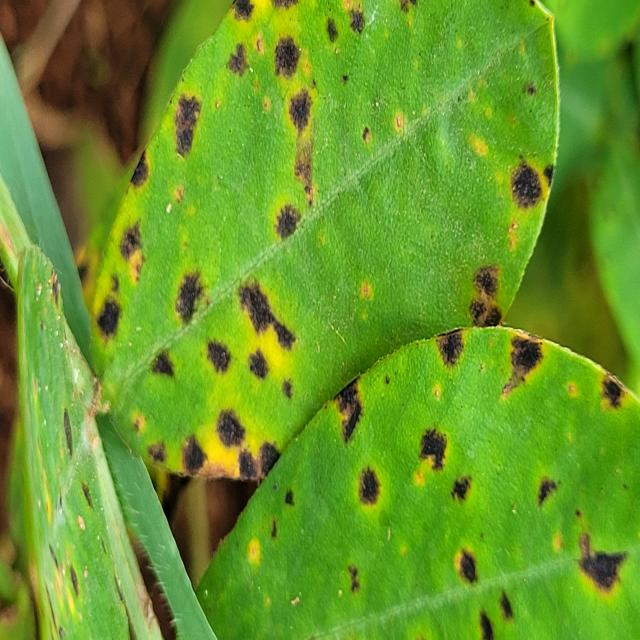Ground nut_tikka leaf spot: (95, 3, 561, 483), (190, 322, 640, 640)
